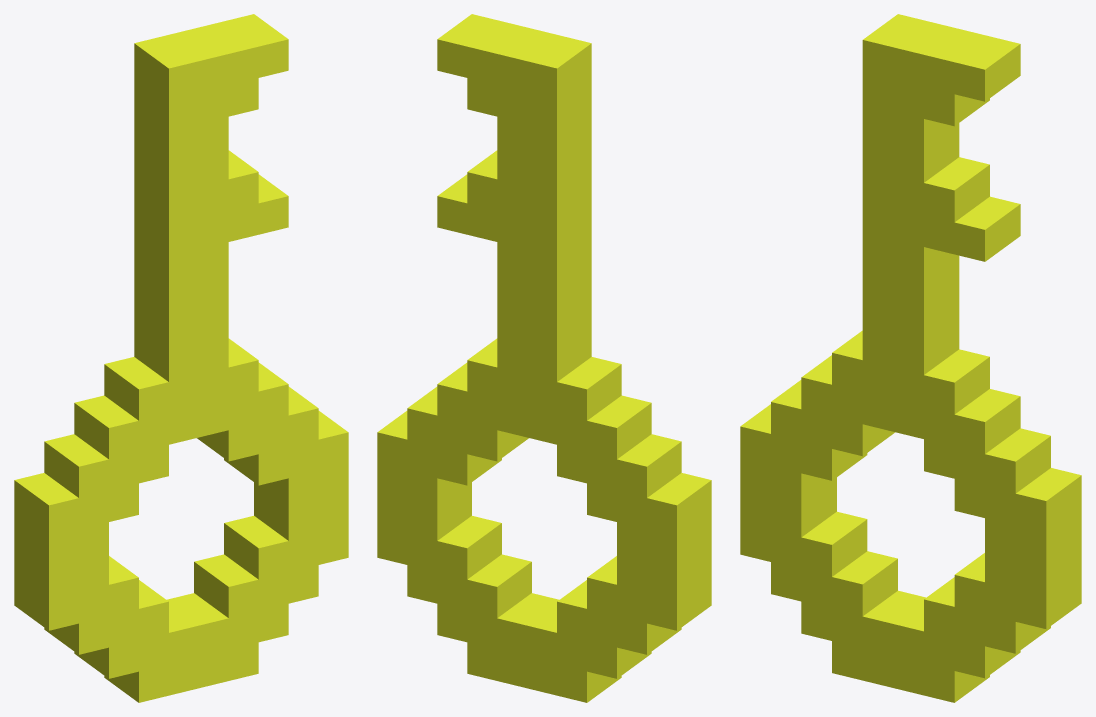
Rendered from key.fbx.
3 renders of one model, left to right at view 1: azimuth 30°, elevation 25°; view 2: azimuth 150°, elevation 25°; view 3: azimuth 330°, elevation 25°, orthographic. The views are drawn at different scales.
Visible parts, largest first — view 1: key; view 2: key; view 3: key.
Boxes of the visible parts, <box> form: key: <box>14,14,348,702</box>; key: <box>377,14,711,702</box>; key: <box>740,14,1081,702</box>.
Bounding box in the file's own units: 20 × 40 × 4.
